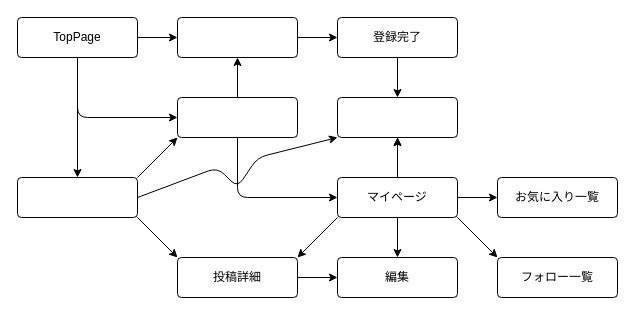
Some shapes in this 635 by 315 pixel diagram are drawn without their labels. The shapes that lost their labels are listed below. From the top down, each one's box as (x1, y1, x2, y2) in pixels, then its label:
(176, 16, 298, 58): サインアップ
(176, 96, 298, 138): サインイン
(336, 96, 458, 138): 新規投稿
(16, 176, 138, 218): 投稿一覧
